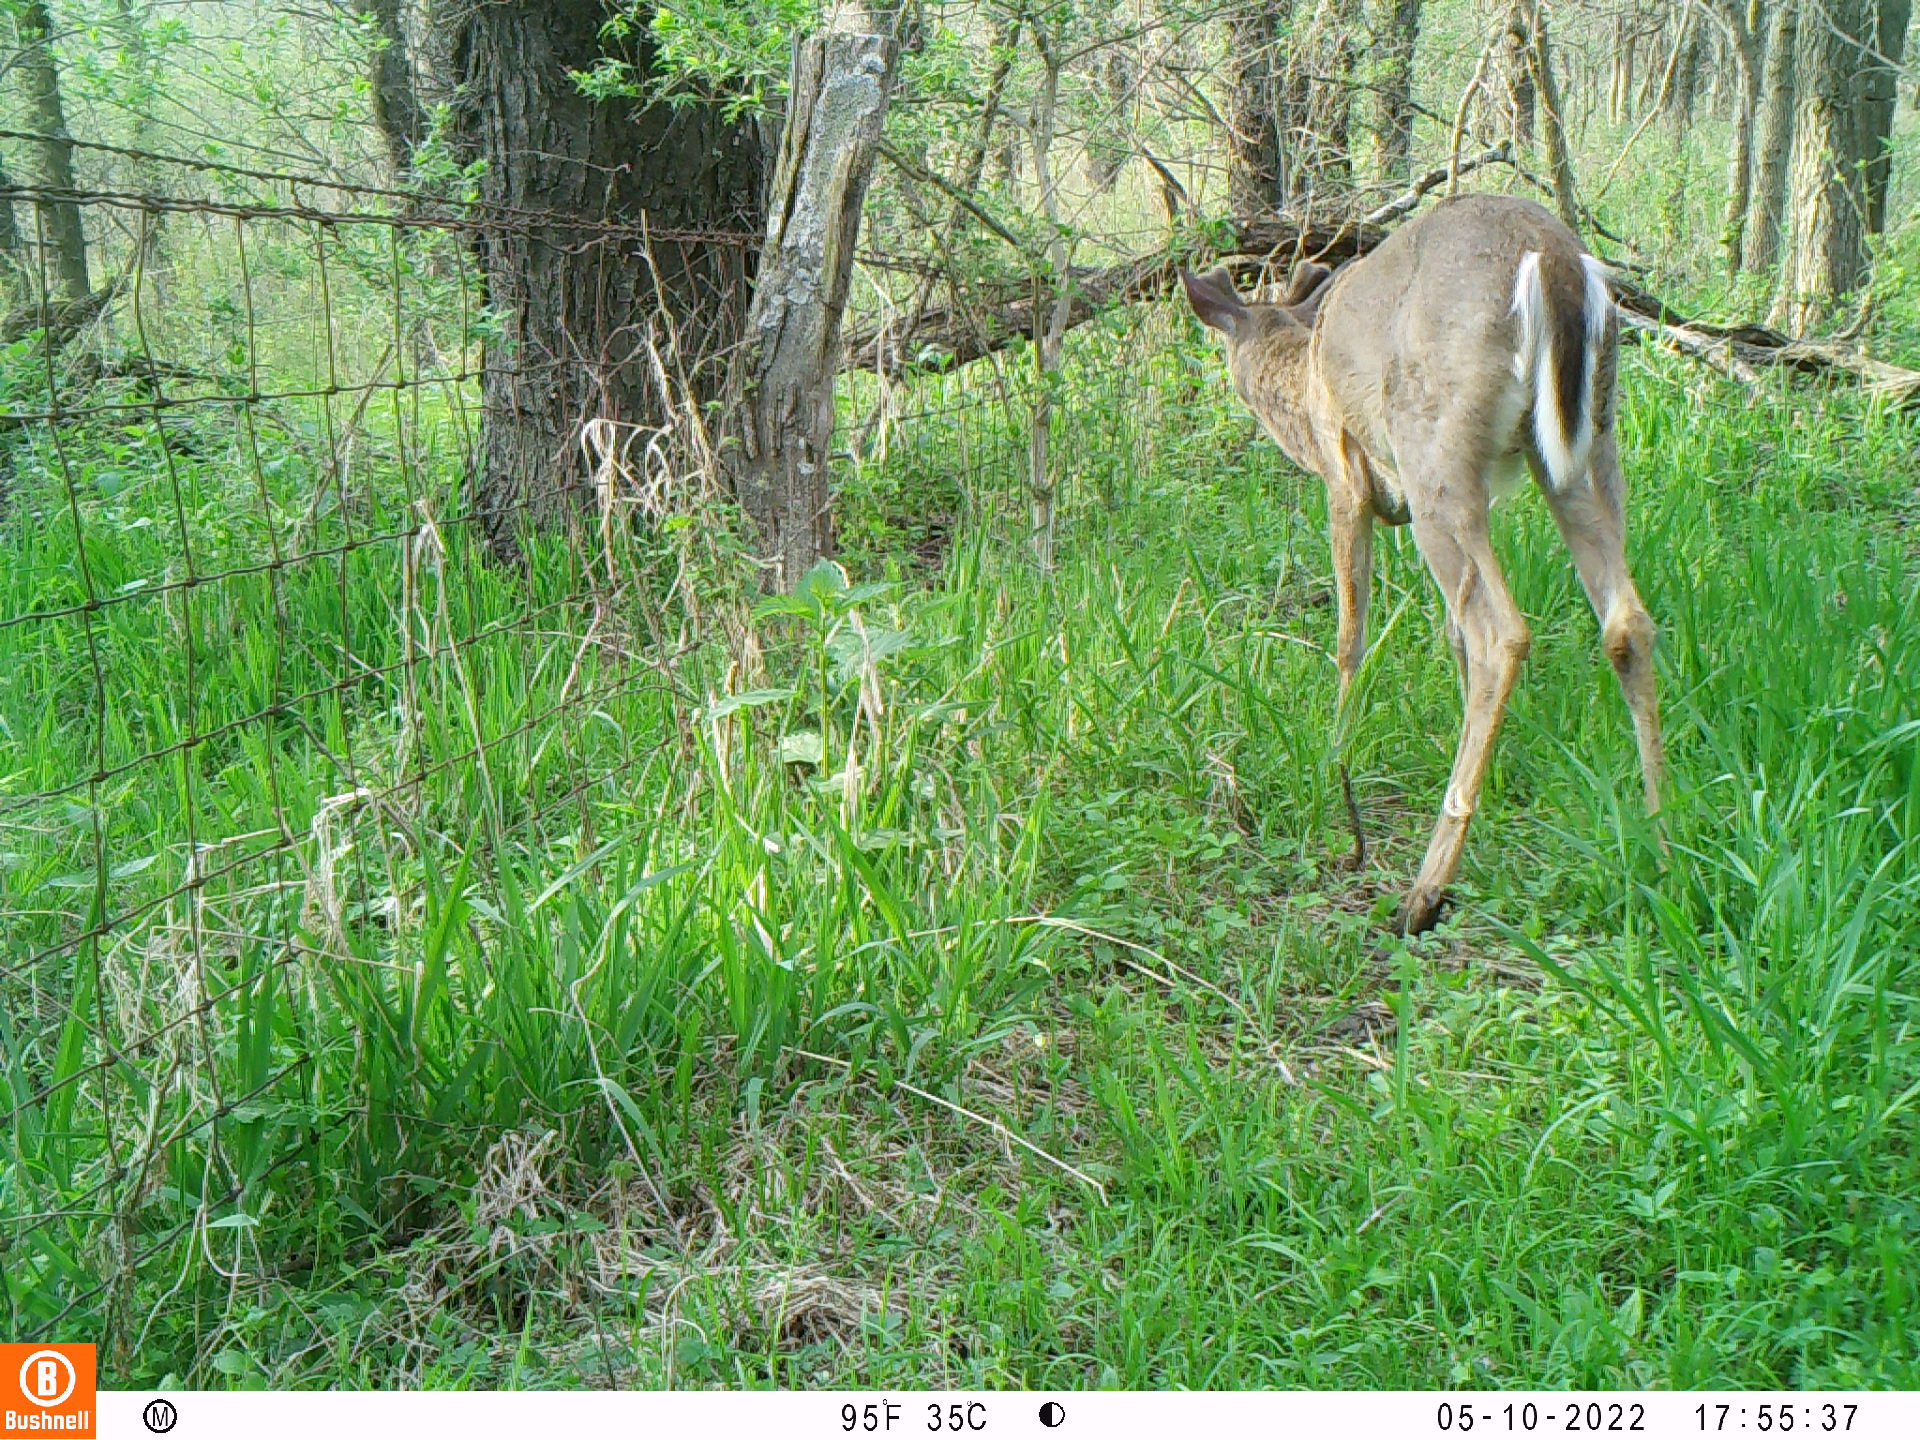DeerBuck: (1178, 191, 1673, 923)
DeerBuckHead: (1179, 254, 1364, 333)
